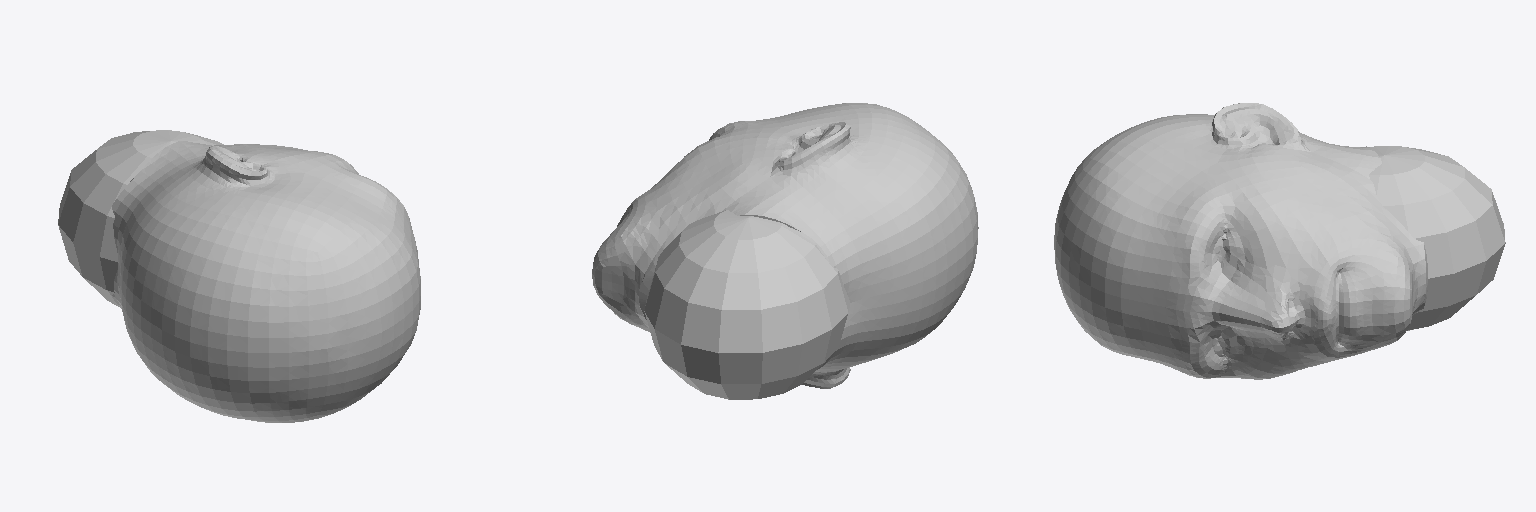
File: HEAD.obj
3 views of the same model, side by side, from view 1: azimuth 30°, elevation 25°; view 2: azimuth 150°, elevation 25°; view 3: azimuth 270°, elevation 25° (orthographic).
Bounding box in the file's own units: 0.2027 × 0.1656 × 0.2683.